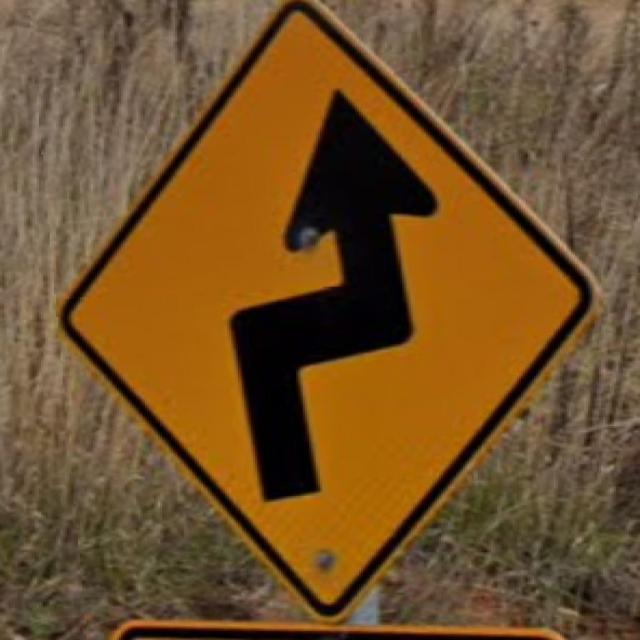Tikungan Ganda Pertama Ke Kanan: (48, 0, 596, 617)
